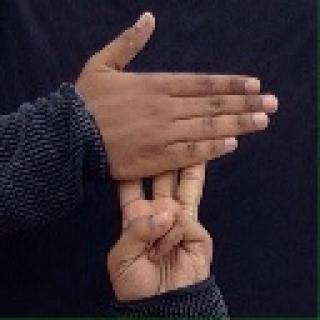M: (80, 6, 264, 289)
